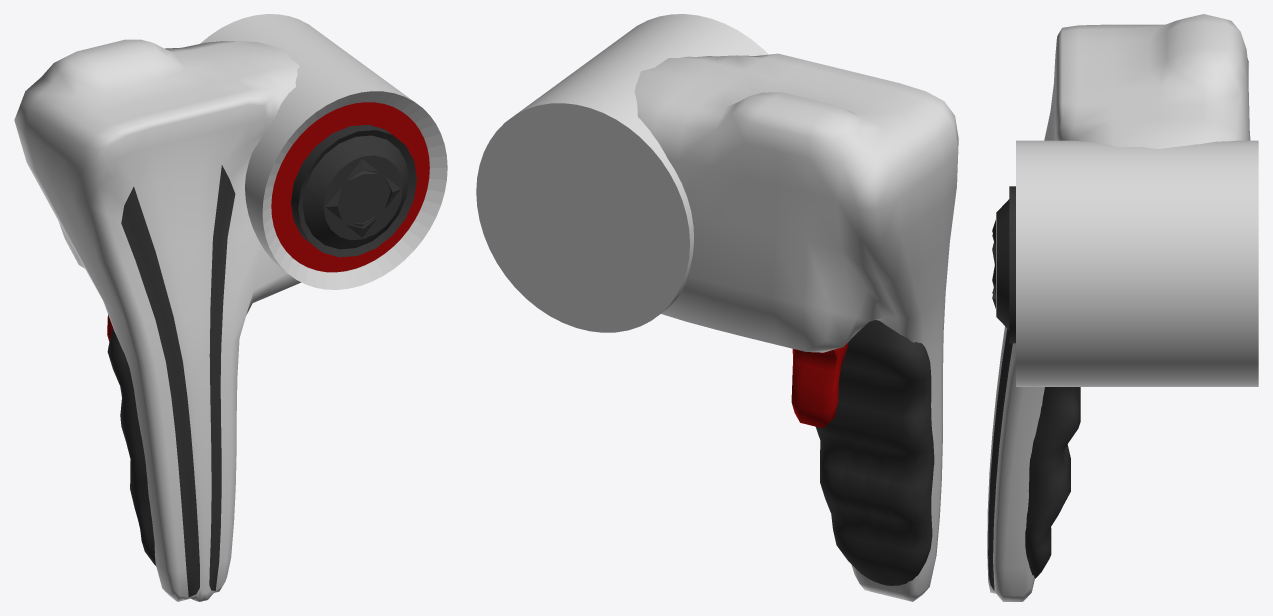
Rendered from leftSWORD.fbx.
The picture shows the model from 3 angles, left to right: view 1: azimuth 30°, elevation 25°; view 2: azimuth 150°, elevation 25°; view 3: azimuth 270°, elevation 25°; orthographic projection. The views are drawn at different scales.
Parts seen in each view (by area): view 1: polySurface3, pCylinder3, pPyramid27, polySurface4; view 2: polySurface3, pCylinder3, polySurface4, pCube3; view 3: pCylinder3, polySurface3, polySurface4, pPyramid27.
Part boxes in pixels (<box>): polySurface3: <box>14,39,300,601</box>; pCylinder3: <box>200,14,447,289</box>; pPyramid27: <box>291,124,416,257</box>; polySurface4: <box>107,328,156,566</box>; polySurface3: <box>634,53,958,601</box>; pCylinder3: <box>476,14,767,332</box>; polySurface4: <box>816,320,934,585</box>; pCube3: <box>791,342,848,428</box>; pCylinder3: <box>1016,140,1258,386</box>; polySurface3: <box>987,14,1250,601</box>; polySurface4: <box>1025,387,1080,578</box>; pPyramid27: <box>992,186,1015,343</box>.
Size of the model in its own units: 1.07 by 1.45 by 0.6422.
